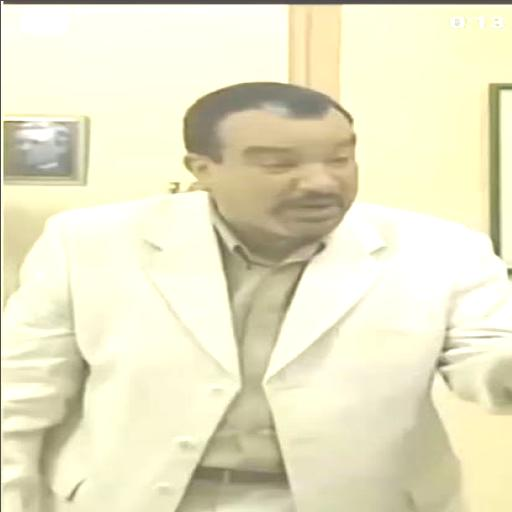slimane: (183, 81, 357, 246)
